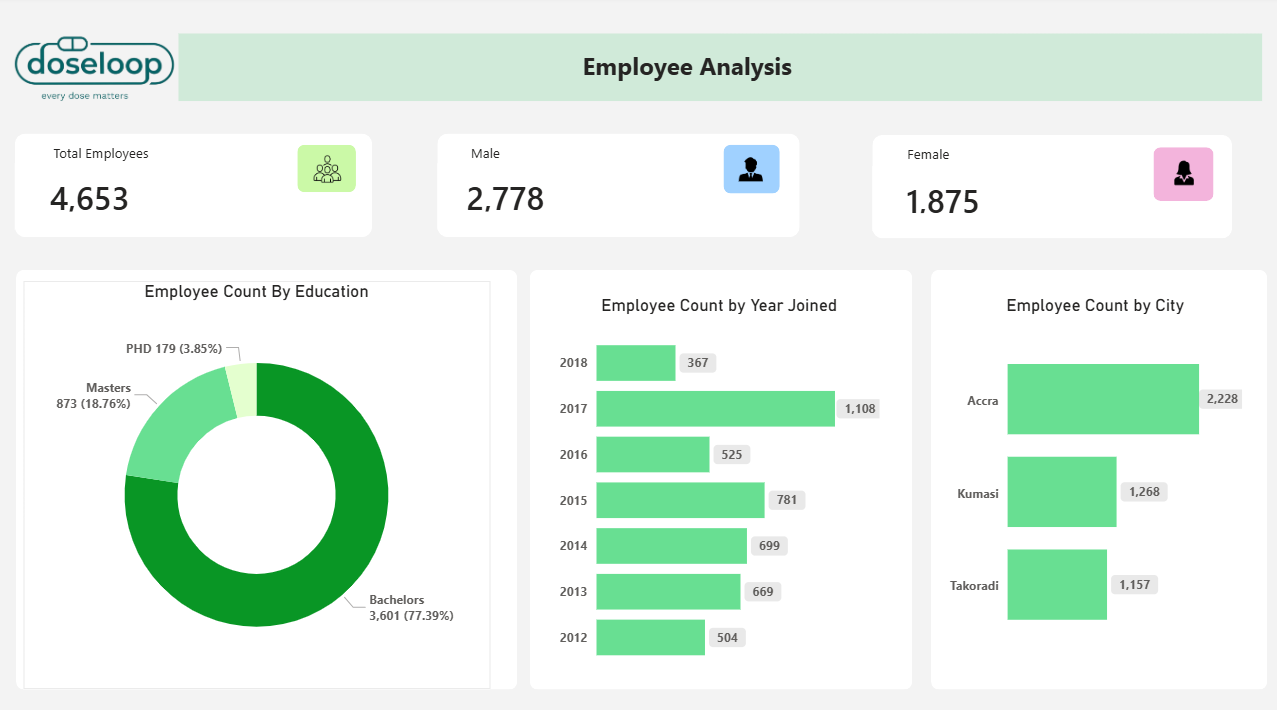

Layout of this report page (visuals, bound fields, positions):
{"tool":"powerbi","page":{"name":"Dashboard","canvas":[1280,720],"ordinal":0},"visuals":[{"type":"shape","box":[19.2,136.8,355.8,103.2],"z":0,"group":"g4"},{"type":"group","id":"g1","title":"Group 2","box":[438.5,136.8,361.1,103.2],"z":0},{"type":"shape","box":[438.9,136.8,360.7,103.2],"z":0,"group":"g1"},{"type":"group","id":"g2","title":"Group 2","box":[871.5,138.1,358.7,103.2],"z":0,"group":"g3"},{"type":"shape","box":[872,138.1,358.3,103.2],"z":0,"group":"g2"},{"type":"group","id":"g3","title":"Group 3","box":[871.5,138.1,358.7,103.2],"z":1000},{"type":"textbox","box":[53,141.8,201.5,42.3],"z":1000,"group":"g4"},{"type":"textbox","box":[467.1,141.8,215.2,42.3],"z":1000,"group":"g1"},{"type":"textbox","box":[901.4,143.1,214,42.3],"z":1000,"group":"g2"},{"type":"image","box":[1154.4,160.5,56,31.1],"z":1000,"group":"g3"},{"type":"group","id":"g4","title":"Group 1","box":[19.2,136.8,355.8,103.2],"z":2000},{"type":"cardVisual","fields":{"Data":["Employee.Total Employees Display"]},"box":[19.2,166.7,149.3,65.9],"z":2000,"group":"g4"},{"type":"shape","box":[300.3,148,58.5,47.3],"z":3000,"group":"g4"},{"type":"cardVisual","fields":{"Data":["Employee.Male Display"]},"box":[438.5,166.2,143.1,65.9],"z":3000,"group":"g1"},{"type":"cardVisual","fields":{"Data":["Employee.Female Display"]},"box":[871.5,169.7,141.8,64.7],"z":3000,"group":"g2"},{"type":"shape","box":[19.5,272.4,498.8,418],"z":3000},{"type":"shape","box":[723.7,148,56,48.5],"z":4000,"group":"g1"},{"type":"shape","box":[1151.9,150.5,59.7,53.5],"z":4000,"group":"g2"},{"type":"image","box":[300.3,151.7,59.7,41.1],"z":4000,"group":"g4"},{"type":"donutChart","title":"Employee Count By Education","fields":{"Category":["Employee.Education"],"Y":["Employee.Total Employees"]},"box":[26.9,283.6,464,406.8],"z":4000},{"type":"image","box":[734.9,160.4,32.3,23.6],"z":5000,"group":"g1"},{"type":"shape","box":[531.7,272.4,380.7,418],"z":5000},{"type":"barChart","title":"Employee Count by Year Joined","fields":{"Y":["Employee.Total Employees"],"Category":["Employee.JoiningYear"]},"box":[555.4,297.3,329.6,383.1],"z":6000},{"type":"shape","box":[930,272.4,334.6,418],"z":7000},{"type":"barChart","title":"Employee Count by City","fields":{"Y":["Employee.Total Employees"],"Category":["Employee.City"]},"box":[942.5,297.3,302.3,369.5],"z":8000},{"type":"image","box":[11,26.1,170.2,90.6],"z":8001},{"type":"shape","box":[181.1,37,1078.6,67.2],"z":8002},{"type":"textbox","box":[555.7,48,263.5,46.7],"z":8003}]}

Visuals, with their boxes in screenshot pixels (x1, y1, x2, y2), scaled from the page's 1280x720 canvas onto the 1277x710 screenshot:
shape: (x1=19, y1=135, x2=374, y2=237)
"Group 2" group: (x1=437, y1=135, x2=798, y2=237)
shape: (x1=438, y1=135, x2=798, y2=237)
"Group 2" group: (x1=869, y1=136, x2=1227, y2=238)
shape: (x1=870, y1=136, x2=1227, y2=238)
"Group 3" group: (x1=869, y1=136, x2=1227, y2=238)
textbox: (x1=53, y1=140, x2=254, y2=182)
textbox: (x1=466, y1=140, x2=681, y2=182)
textbox: (x1=899, y1=141, x2=1113, y2=183)
image: (x1=1152, y1=158, x2=1208, y2=189)
"Group 1" group: (x1=19, y1=135, x2=374, y2=237)
cardVisual - Employee.Total Employees Display: (x1=19, y1=164, x2=168, y2=229)
shape: (x1=300, y1=146, x2=358, y2=193)
cardVisual - Employee.Male Display: (x1=437, y1=164, x2=580, y2=229)
cardVisual - Employee.Female Display: (x1=869, y1=167, x2=1011, y2=231)
shape: (x1=19, y1=269, x2=517, y2=681)
shape: (x1=722, y1=146, x2=778, y2=194)
shape: (x1=1149, y1=148, x2=1209, y2=201)
image: (x1=300, y1=150, x2=359, y2=190)
"Employee Count By Education" donutChart: (x1=27, y1=280, x2=490, y2=681)
image: (x1=733, y1=158, x2=765, y2=181)
shape: (x1=530, y1=269, x2=910, y2=681)
"Employee Count by Year Joined" barChart: (x1=554, y1=293, x2=883, y2=671)
shape: (x1=928, y1=269, x2=1262, y2=681)
"Employee Count by City" barChart: (x1=940, y1=293, x2=1242, y2=658)
image: (x1=11, y1=26, x2=181, y2=115)
shape: (x1=181, y1=36, x2=1257, y2=103)
textbox: (x1=554, y1=47, x2=817, y2=93)
